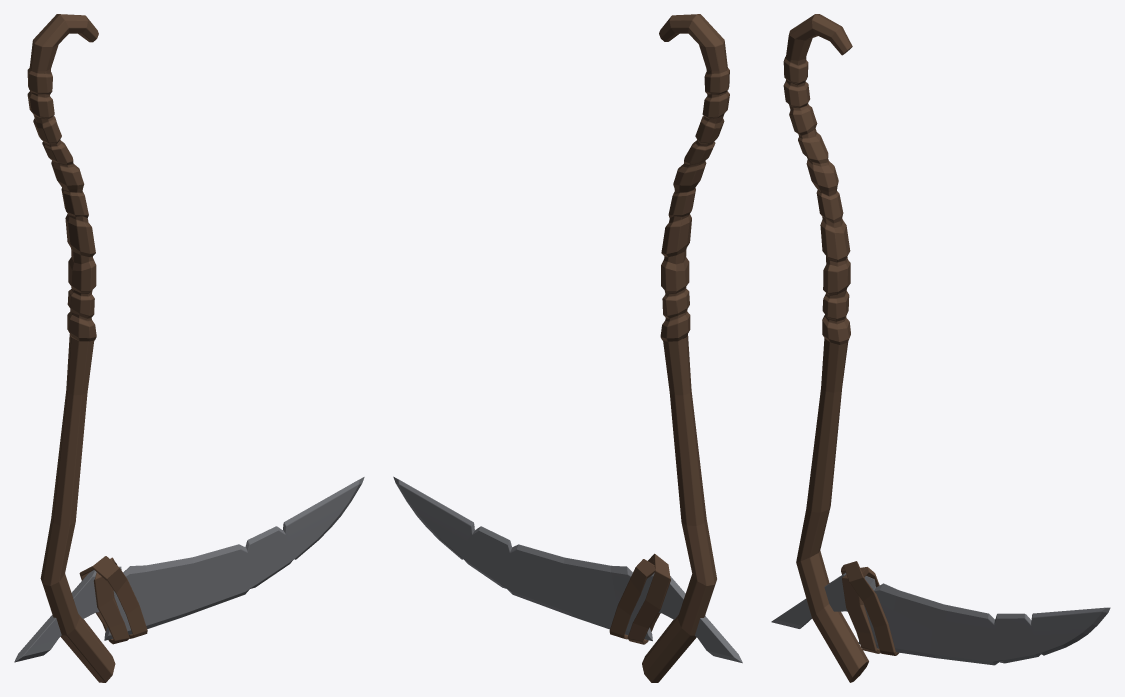
The model's file is scythe_2.glb.
3 renders of one model, left to right at view 1: azimuth 30°, elevation 25°; view 2: azimuth 150°, elevation 25°; view 3: azimuth 330°, elevation 25°, orthographic. The views are drawn at different scales.
Visible parts, largest first — view 1: scythe_2; view 2: scythe_2; view 3: scythe_2.
Part boxes in pixels (bbox=[...]): scythe_2: bbox=[14, 14, 364, 682]; scythe_2: bbox=[393, 14, 742, 682]; scythe_2: bbox=[771, 14, 1110, 682].
Bounding box in the file's own units: 0.9728 × 1.8 × 0.0886.
